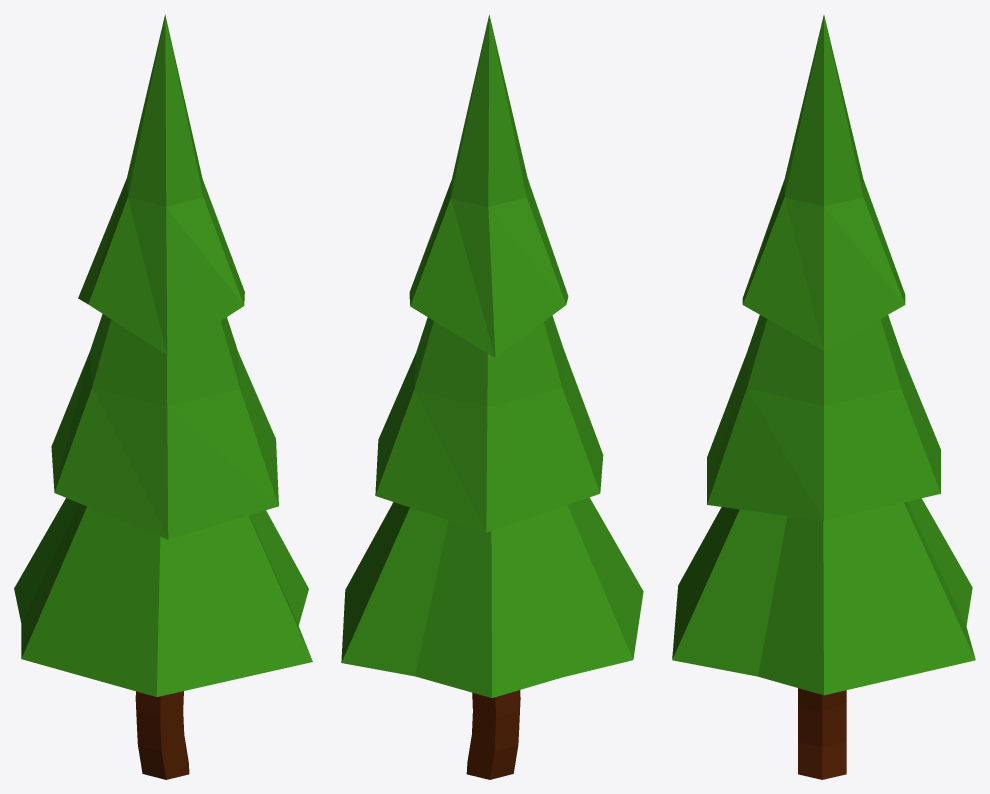
The model's file is tree_pine_05.FBX.
The picture shows the model from 3 angles, left to right: view 1: azimuth 30°, elevation 25°; view 2: azimuth 150°, elevation 25°; view 3: azimuth 270°, elevation 25°; orthographic projection.
Parts seen in each view (by area): view 1: tree_pine_05; view 2: tree_pine_05; view 3: tree_pine_05.
Boxes of the visible parts, x1,y1,x2,y2 form: tree_pine_05: (14, 14, 312, 779); tree_pine_05: (341, 14, 643, 779); tree_pine_05: (672, 15, 975, 779).
Bounding box in the file's own units: 128 × 320 × 117.
